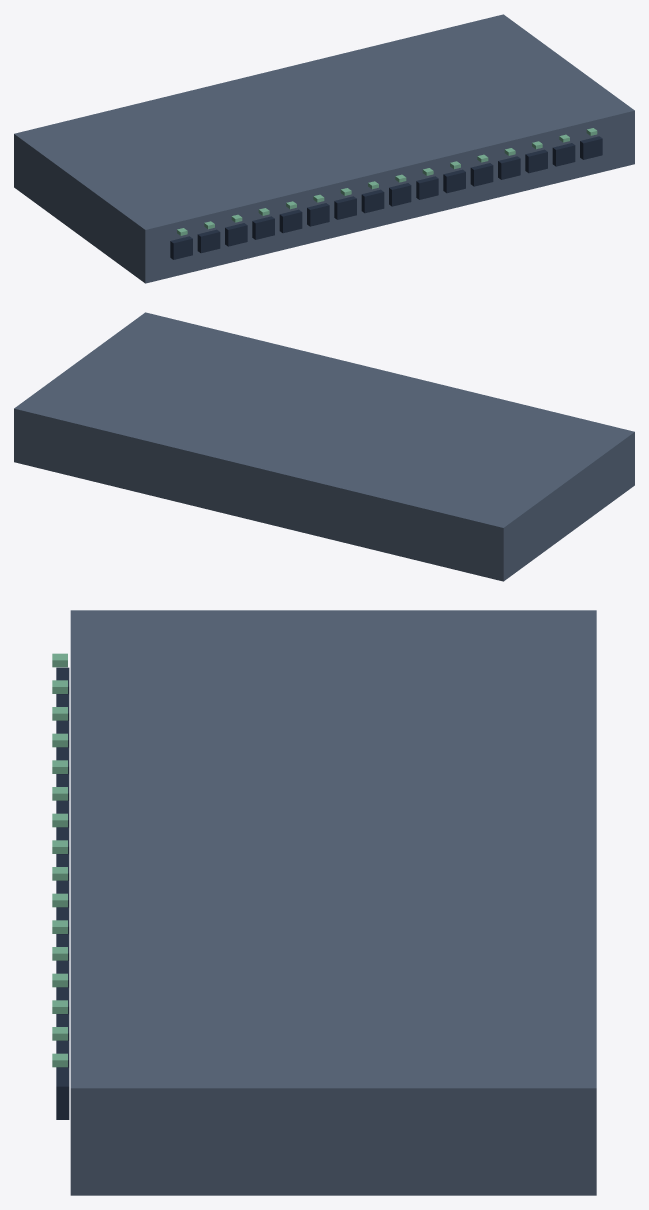
The model's file is officeNetworkSwitch.glb.
3 renders of one model, top to bottom at view 1: azimuth 30°, elevation 25°; view 2: azimuth 150°, elevation 25°; view 3: azimuth 270°, elevation 25°, orthographic. The views are drawn at different scales.
Bounding box in the file's own units: 0.43 × 0.045 × 0.207.
